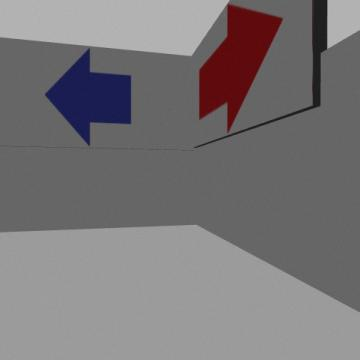blue_left: (46, 49, 130, 145)
red_right: (199, 4, 282, 132)
